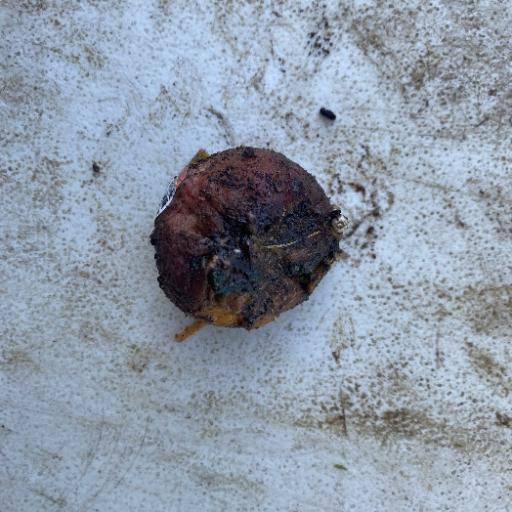Waste: (147, 144, 349, 343)
